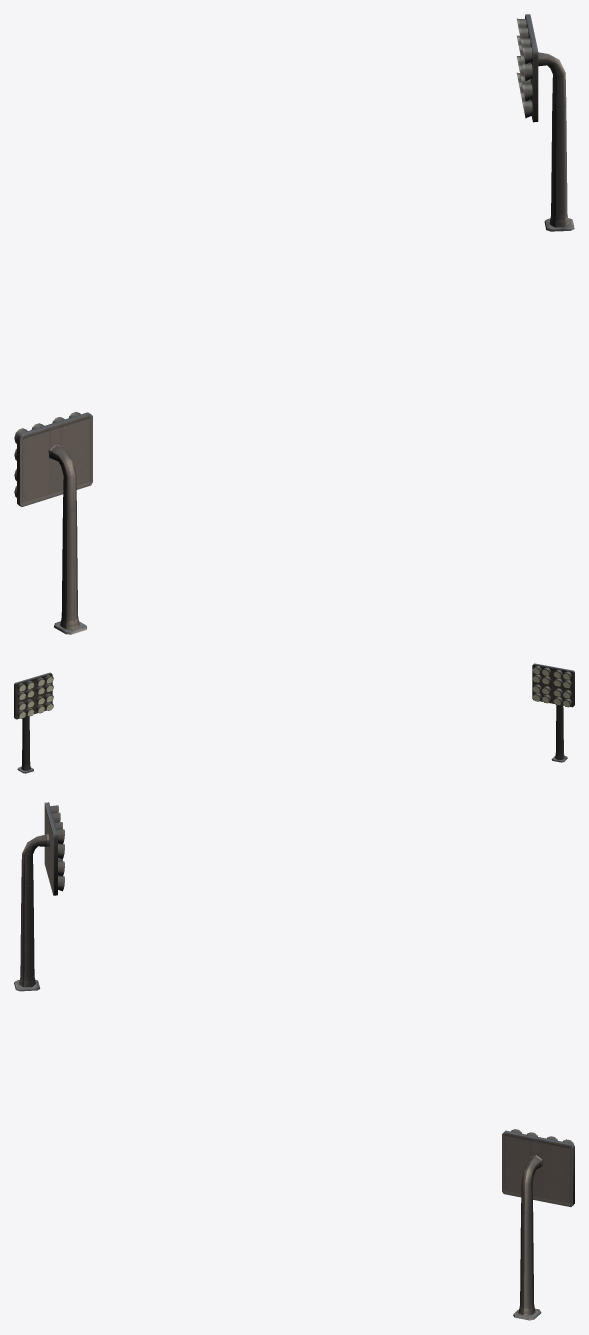
File: pref_sm_beach_bk_pointmol_techbiglight_L_lv1.fbx
3 views of the same model, one above another, from view 1: azimuth 30°, elevation 25°; view 2: azimuth 150°, elevation 25°; view 3: azimuth 270°, elevation 25° (orthographic). The views are drawn at different scales.
Parts seen in each view (by area): view 1: pref_sm_beach_bk_pointmol_techbiglight_L_lv1; view 2: pref_sm_beach_bk_pointmol_techbiglight_L_lv1; view 3: pref_sm_beach_bk_pointmol_techbiglight_L_lv1.
Boxes of the visible parts, box(x1,y1,x2,y2) form: pref_sm_beach_bk_pointmol_techbiglight_L_lv1: box(14, 14, 574, 634); pref_sm_beach_bk_pointmol_techbiglight_L_lv1: box(14, 663, 574, 773); pref_sm_beach_bk_pointmol_techbiglight_L_lv1: box(14, 802, 574, 1320).
Bounding box in the file's own units: 34.44 × 7.64 × 23.22.
